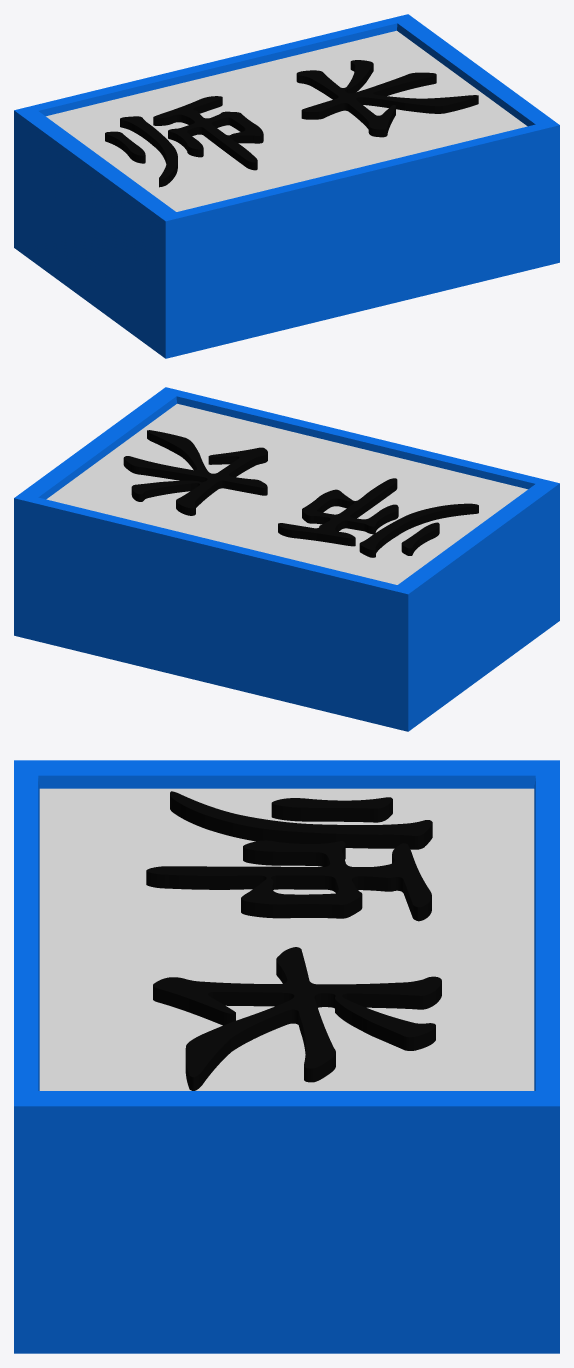
The model's file is 3_shi_zhang.fbx.
3 views of the same model, one above another, from view 1: azimuth 30°, elevation 25°; view 2: azimuth 150°, elevation 25°; view 3: azimuth 270°, elevation 25° (orthographic). The views are drawn at different scales.
Parts seen in each view (by area): view 1: Cube, 文本; view 2: Cube, 文本; view 3: Cube, 文本.
Boxes of the visible parts, x1,y1,x2,y2 form: Cube: (14, 14, 559, 358); 文本: (105, 60, 478, 187); Cube: (14, 387, 559, 731); 文本: (123, 430, 478, 557); Cube: (14, 760, 559, 1353); 文本: (146, 791, 441, 1090).
Size of the model in its own units: 240 by 80.47 by 160.
